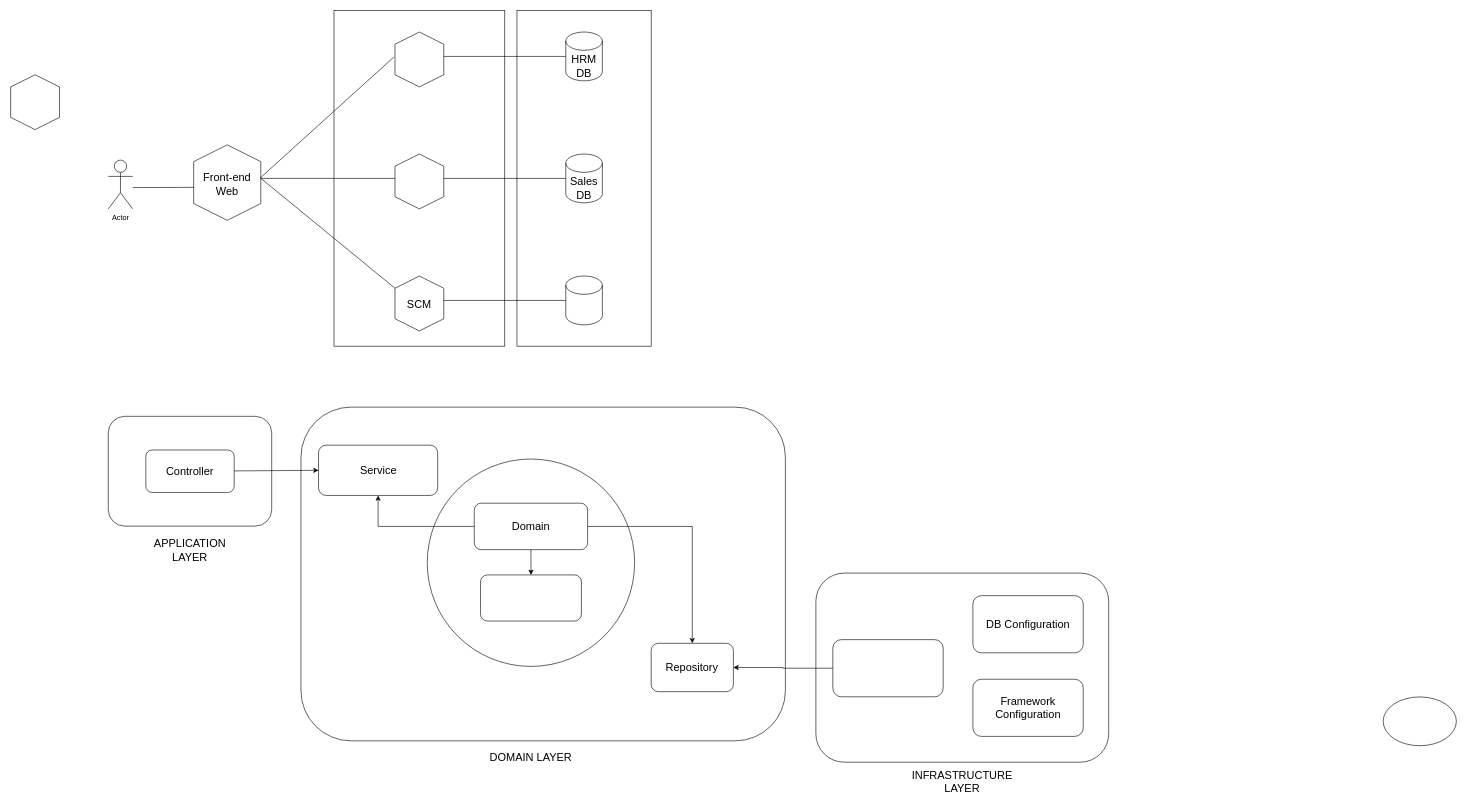
Image size: 1467x806. Some labels were removed from this diagram. Each missing label, with the centre of its shape:
DB Repository: [887,668]
Domain Enitity: [530,597]
HRM: [419,56]
Sales: [419,178]
SCM DB: [583,300]
